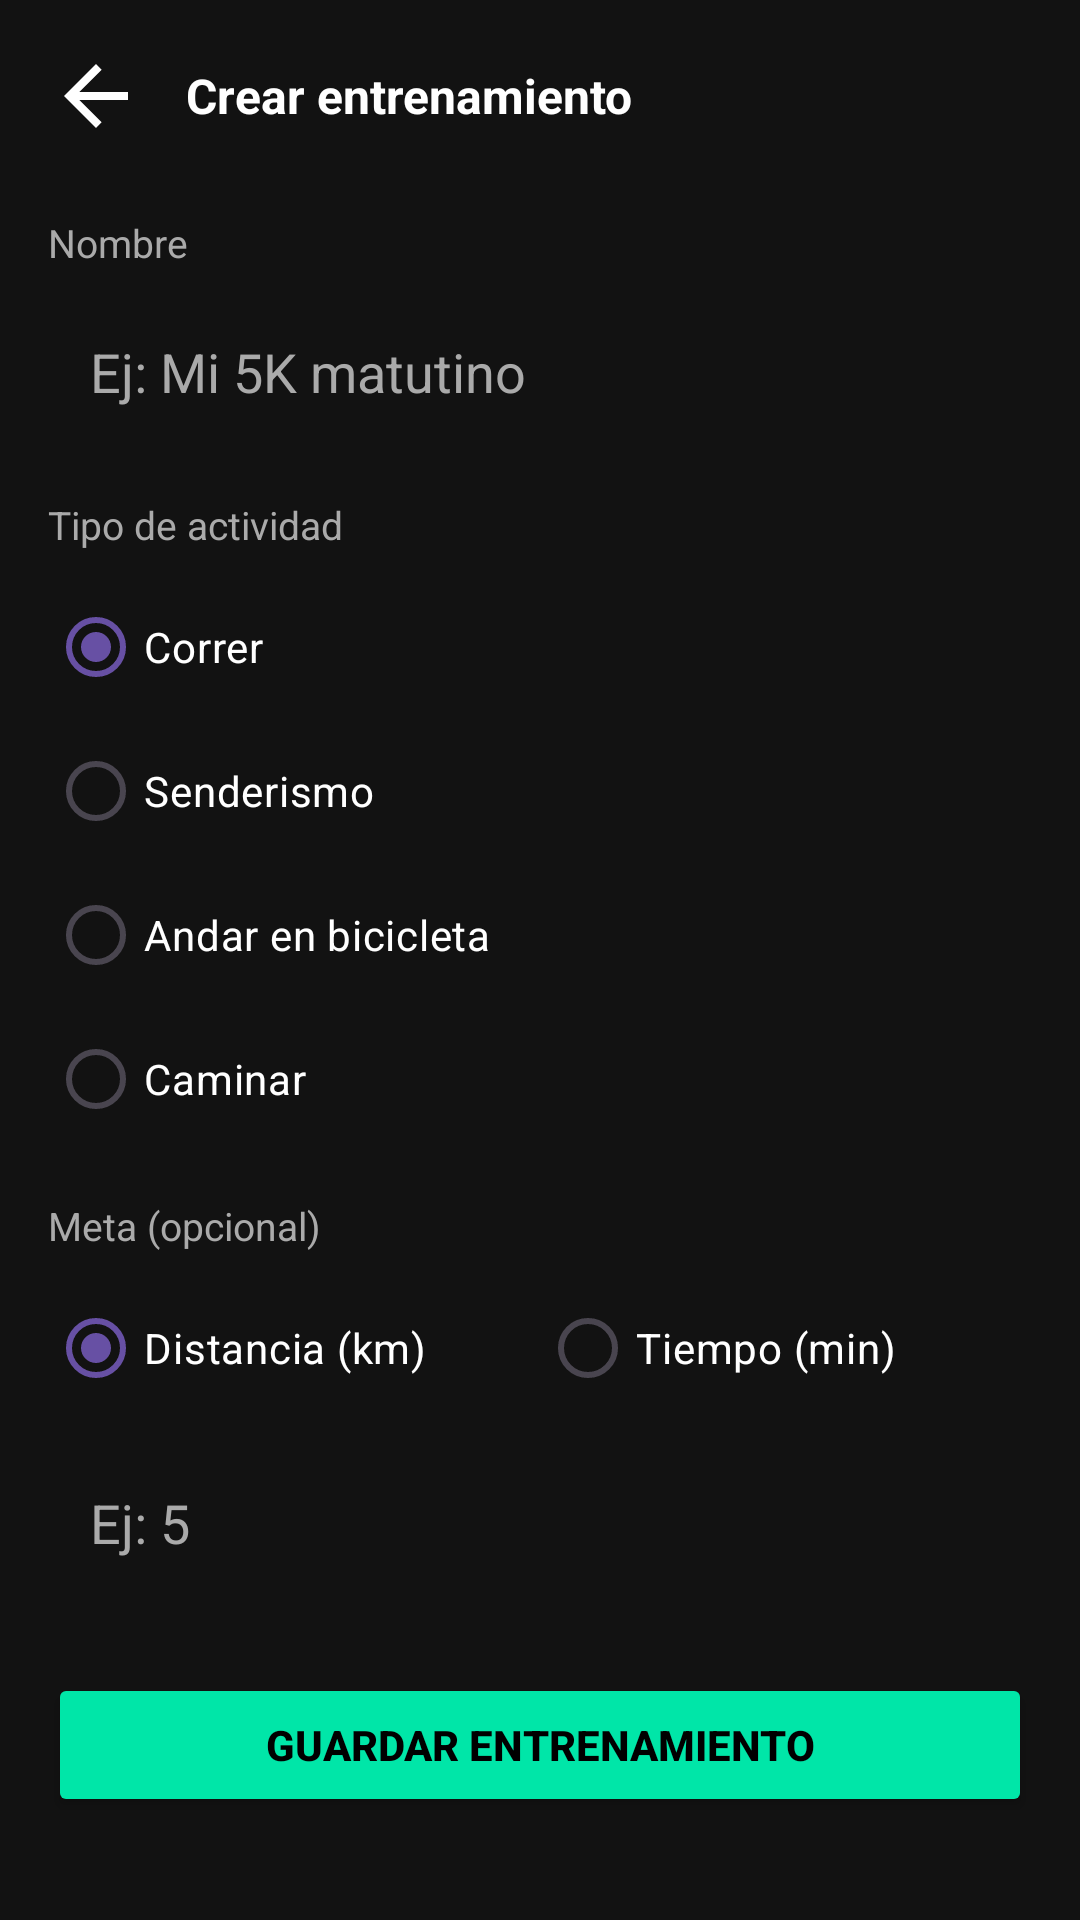

Named icons in this screenshot (1080px×1920px) and their bounding boxes, region(x1, y1, x2, y2):
Volver: region(64, 64, 128, 128)
